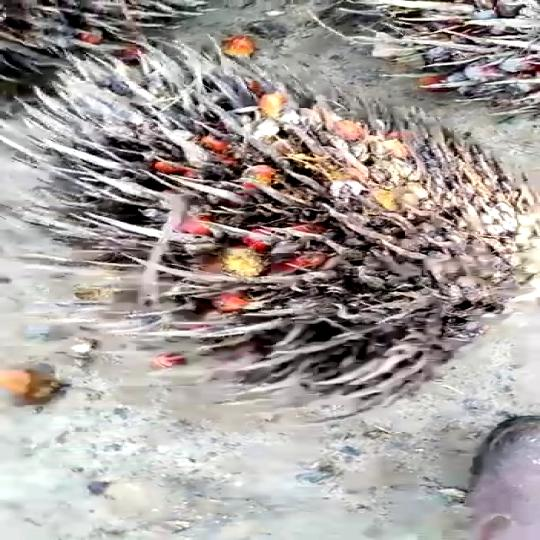terlalu masak: (0, 36, 540, 410)
